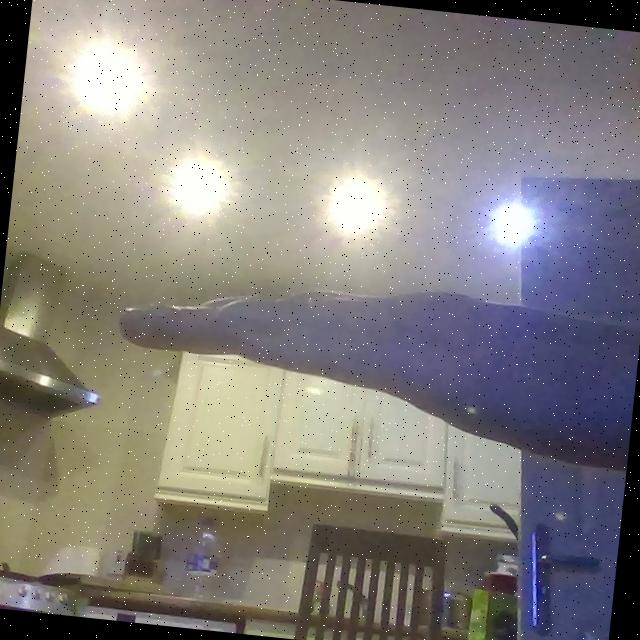papper: (100, 258, 610, 474)
